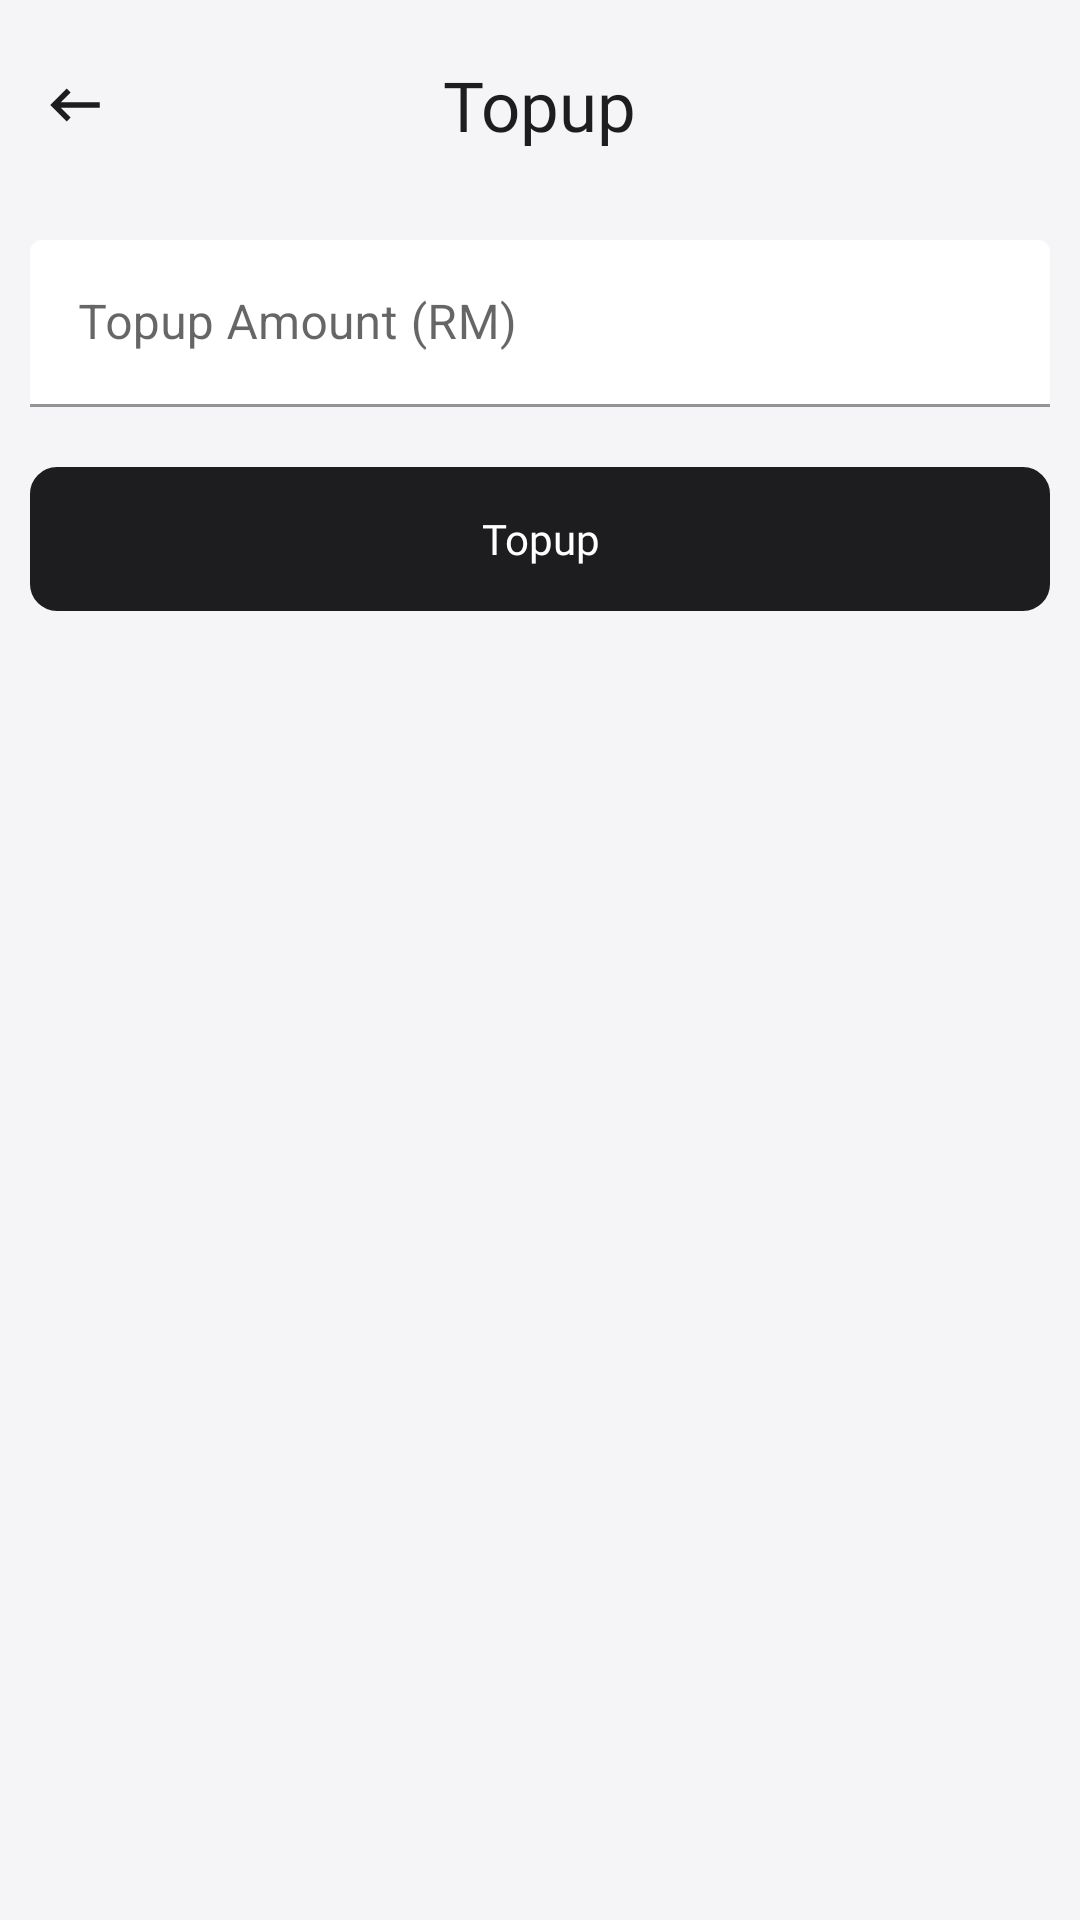

Icons on this 1080×1920 Android screen, each with the point to tap as [x,y]:
keyboard backspace: [75,105]
